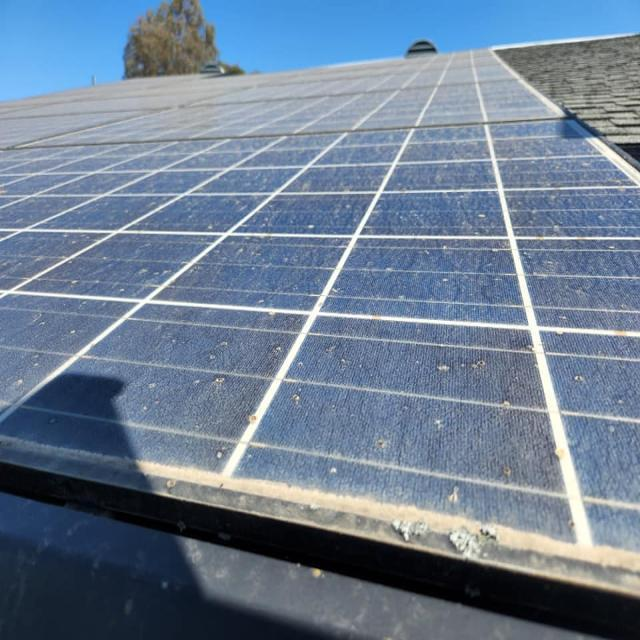Anomaly Solar Panel: (1, 47, 639, 575)
Surface Contaminant: (0, 51, 639, 560)
